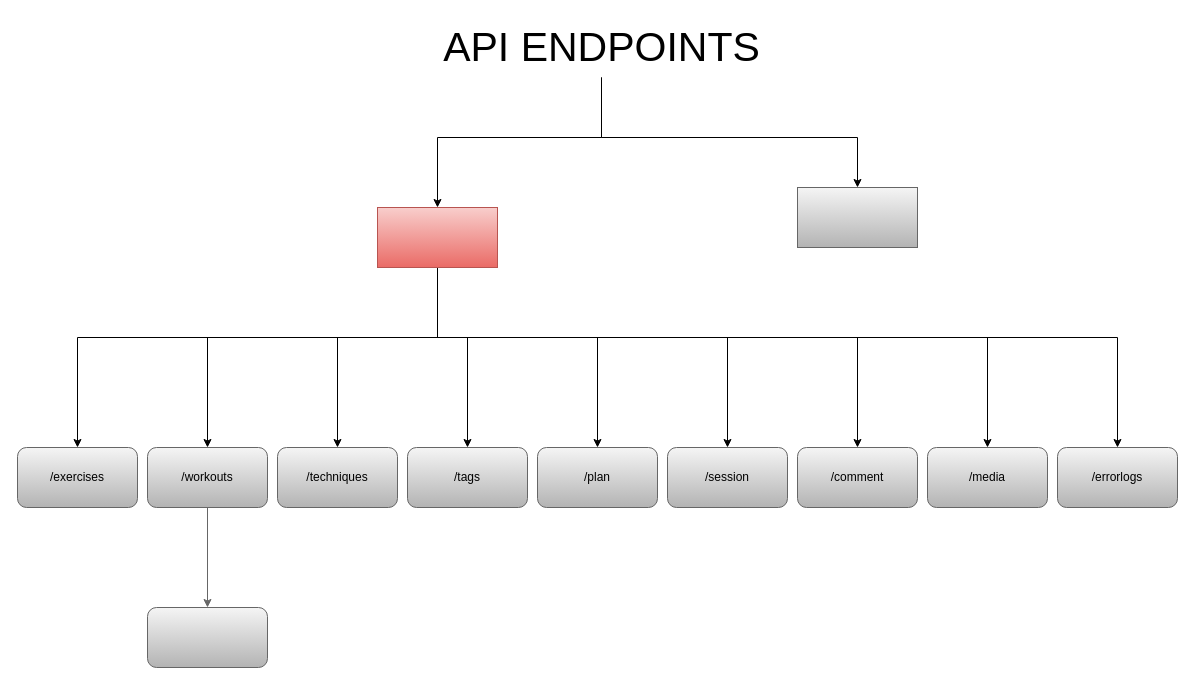
The diagram is 1195 pixels wide and 685 high, and some of its shapes have lost their labels. The shapes that lost their labels are listed below. From the top down, each one's centre as x and y in pixels, then its label:
[437,237]: /api
[857,217]: /user
[207,637]: /activities
